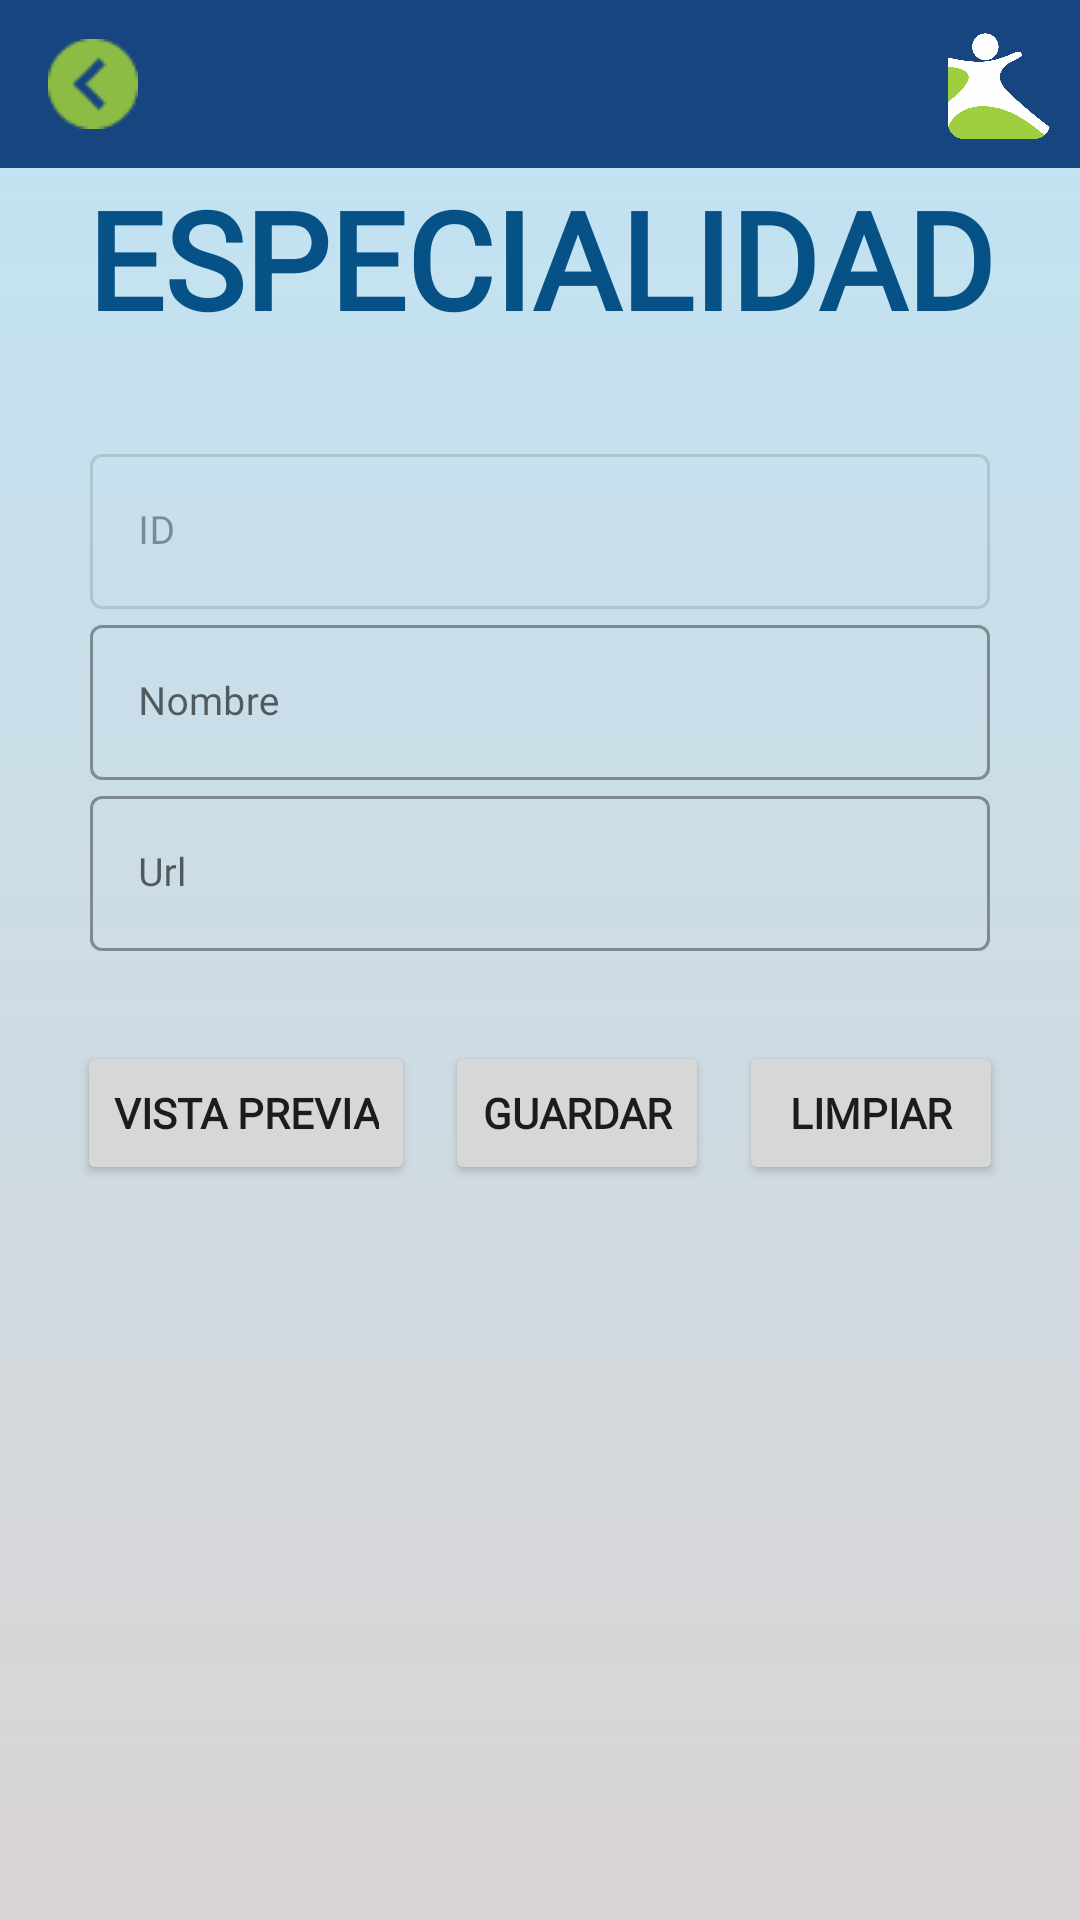

Icons on this 1080*1920 Android screen, each with the point to tap as (x,y):
back: (93,84)
